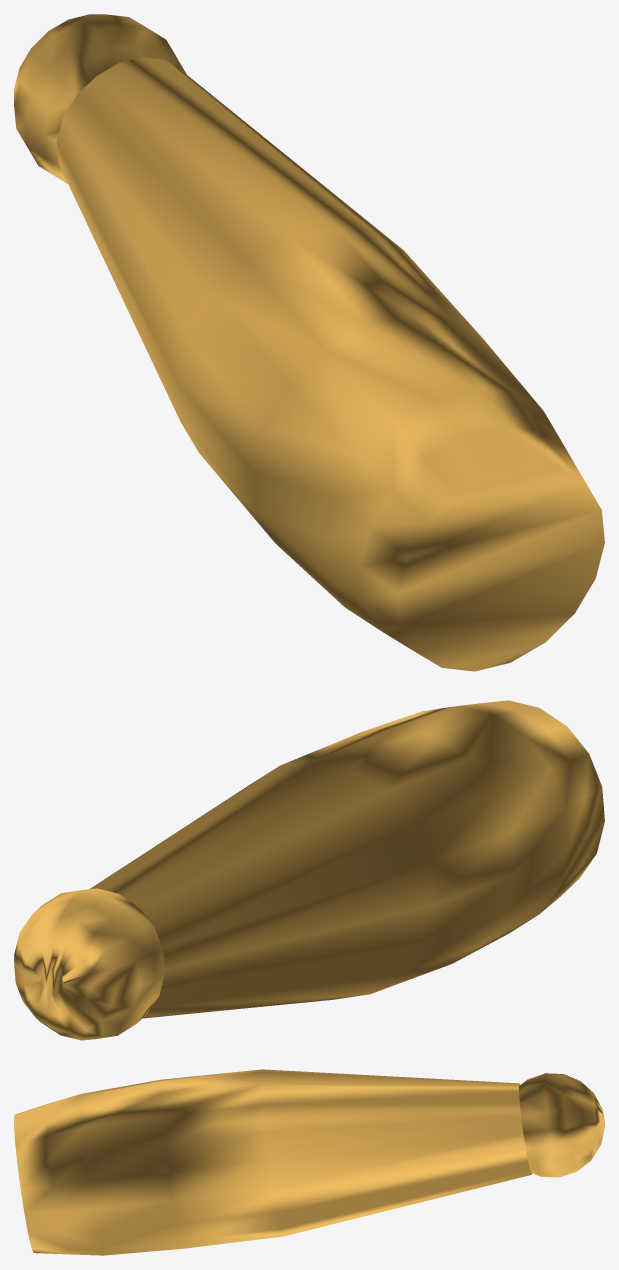
The model's file is lower_leg.dae.
The picture shows the model from 3 angles, top to bottom: view 1: azimuth 30°, elevation 25°; view 2: azimuth 150°, elevation 25°; view 3: azimuth 270°, elevation 25°; orthographic projection. The views are drawn at different scales.
Parts seen in each view (by area): view 1: Node_000001982B1DE190; view 2: Node_000001982B1DE190; view 3: Node_000001982B1DE190.
Part boxes in pixels (x1,y1,x2,y2): Node_000001982B1DE190: (14,14,604,671); Node_000001982B1DE190: (14,700,604,1040); Node_000001982B1DE190: (14,1069,604,1255).
Bounding box in the file's own units: 0.1261 × 0.1439 × 0.423.
